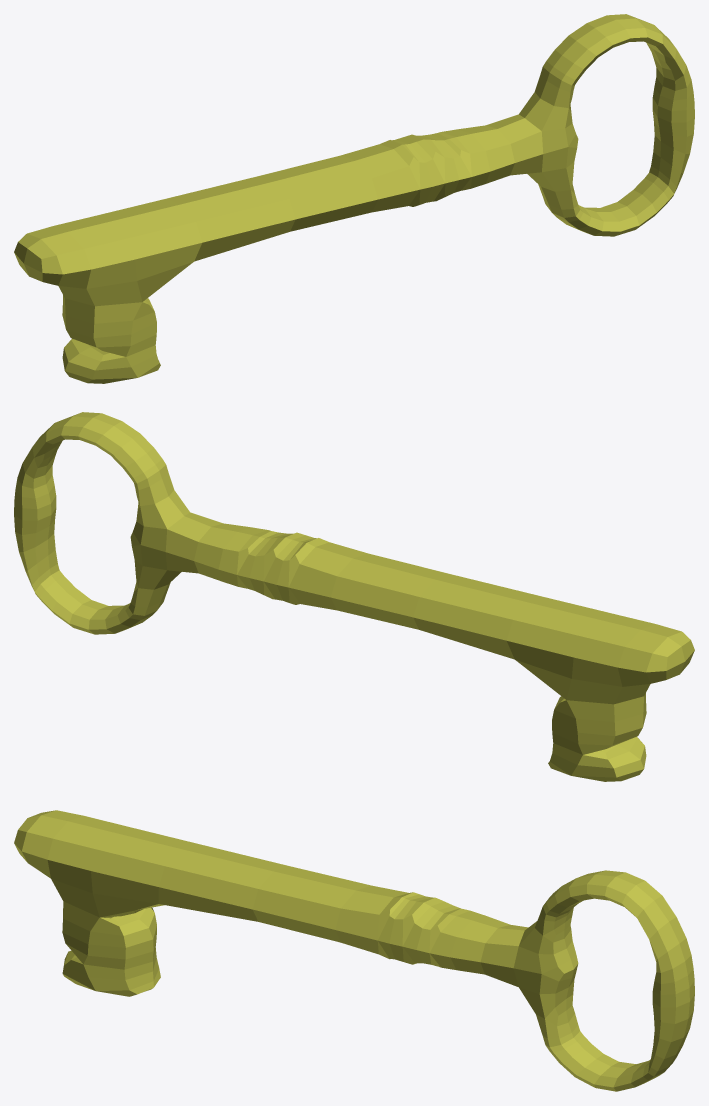
The model's file is big_key.fbx.
3 views of the same model, one above another, from view 1: azimuth 30°, elevation 25°; view 2: azimuth 150°, elevation 25°; view 3: azimuth 330°, elevation 25° (orthographic).
Parts seen in each view (by area): view 1: Cube; view 2: Cube; view 3: Cube.
Boxes of the visible parts, <box> form: Cube: <box>14,14,694,383</box>; Cube: <box>14,412,694,781</box>; Cube: <box>14,810,694,1091</box>.
Size of the model in its own units: 1.67 by 0.1929 by 0.5431.
